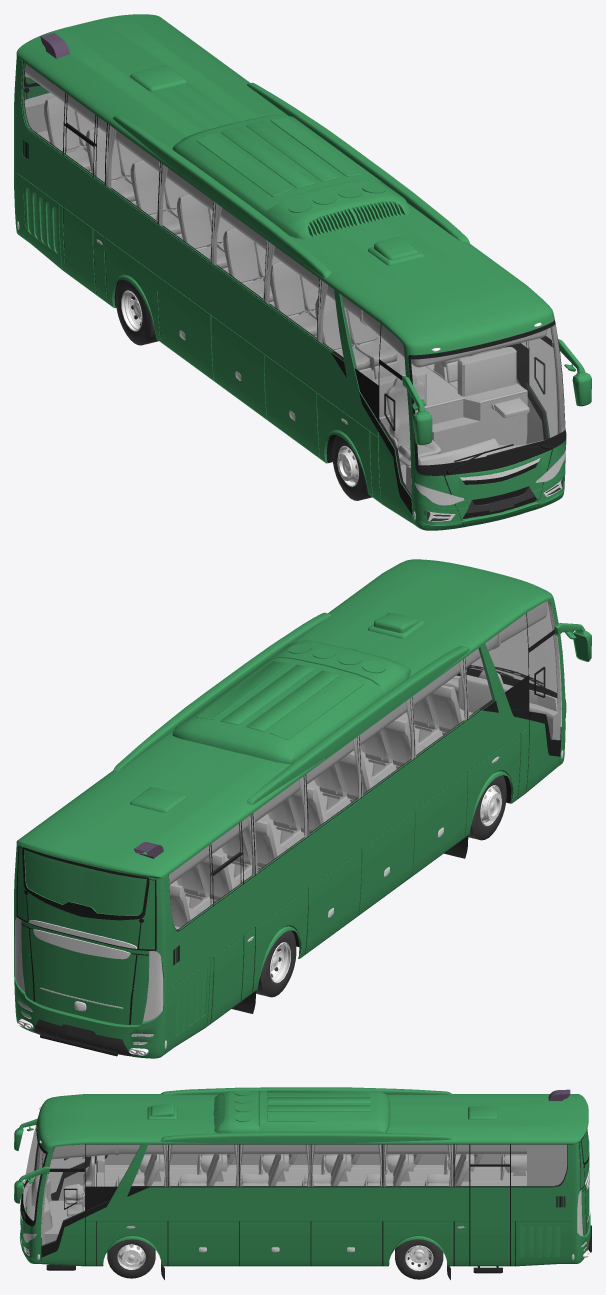
Rendered from ecoline_green.glb.
The picture shows the model from 3 angles, top to bottom: view 1: azimuth 30°, elevation 25°; view 2: azimuth 150°, elevation 25°; view 3: azimuth 270°, elevation 25°; orthographic projection. The views are drawn at different scales.
Parts seen in each view (by area): view 1: bodi, kaca, ac, kursi, lis, lantai, sayap, dek, skat, ban, gorden, kursi_supir (+8 smaller); view 2: bodi, kaca, ac, kursi, sayap, lis, dek, lantai, ban, krum, lampu_blkng, gorden (+7 smaller); view 3: bodi, kaca, ac, kursi, lis, lantai, dek, sayap, daleman, ban, wc, gorden (+7 smaller).
Part boxes in pixels (x1,y1,x2,y2): bodi: (14,14,566,530); kaca: (22,63,564,497); ac: (130,65,425,265); kursi: (44,97,496,382); lis: (16,62,566,526); lantai: (24,93,527,484); sayap: (113,82,469,278); dek: (25,63,547,367); skat: (372,347,516,416); ban: (116,279,372,500); gorden: (104,124,327,343); kursi_supir: (386,373,441,465); bodi: (14,559,566,1058); kaca: (169,601,560,930); ac: (130,613,425,812); kursi: (169,685,472,927); sayap: (113,612,469,805); lis: (16,601,566,1024); dek: (151,601,547,884); lantai: (172,712,442,929); ban: (256,775,506,997); krum: (28,920,137,1008); lampu_blkng: (14,917,163,1044); gorden: (247,658,469,875); bodi: (19,1094,590,1266); kaca: (23,1122,566,1245); ac: (147,1090,497,1133); kursi: (115,1154,526,1186); lis: (20,1118,589,1266); lantai: (44,1165,526,1243); dek: (52,1144,526,1159); sayap: (160,1087,451,1143); daleman: (23,1146,501,1237); ban: (107,1239,443,1279); wc: (527,1144,567,1185); gorden: (162,1144,457,1186).
Size of the model in its own units: 2.88 by 3.59 by 12.22.
